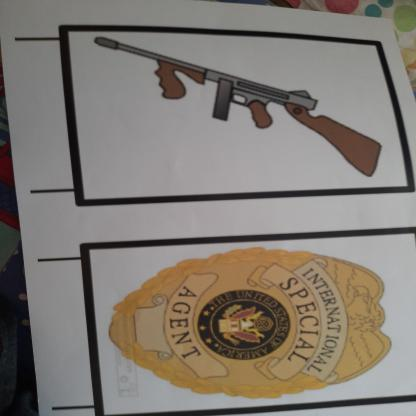Bootlegger: (85, 30, 395, 183)
G-man: (93, 241, 403, 407)
